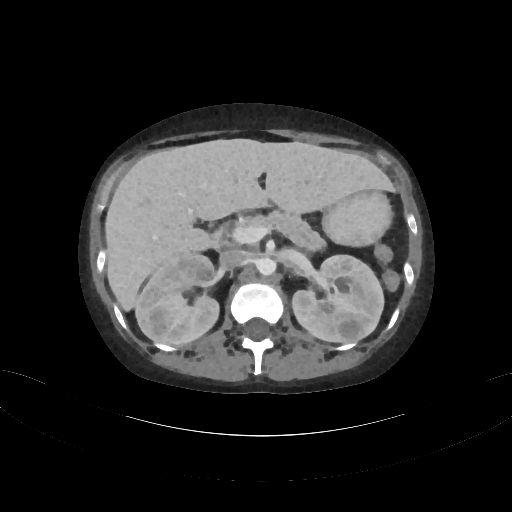Lesion: (129, 243, 225, 349)
